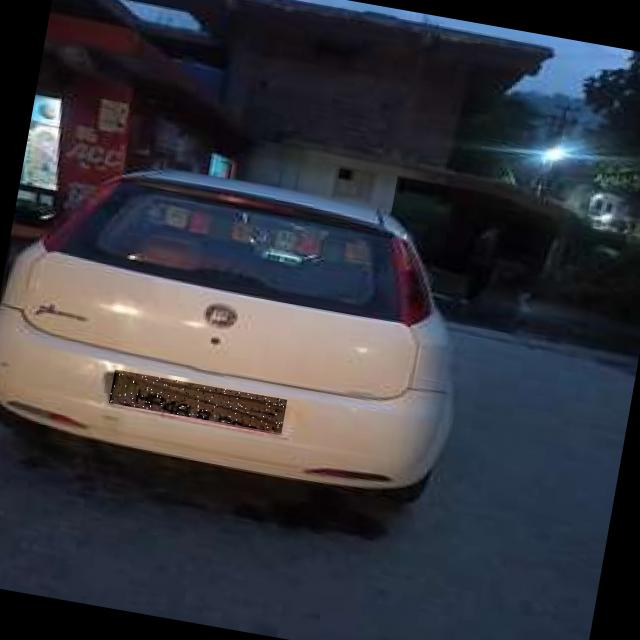Plate: (110, 370, 288, 434)
